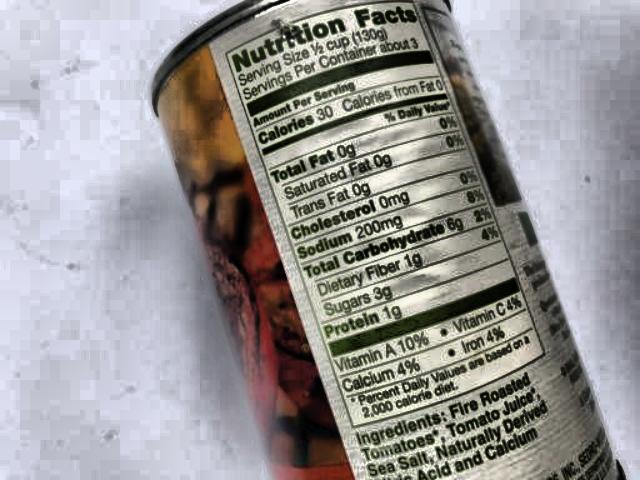Almennt: (129, 0, 640, 480)
